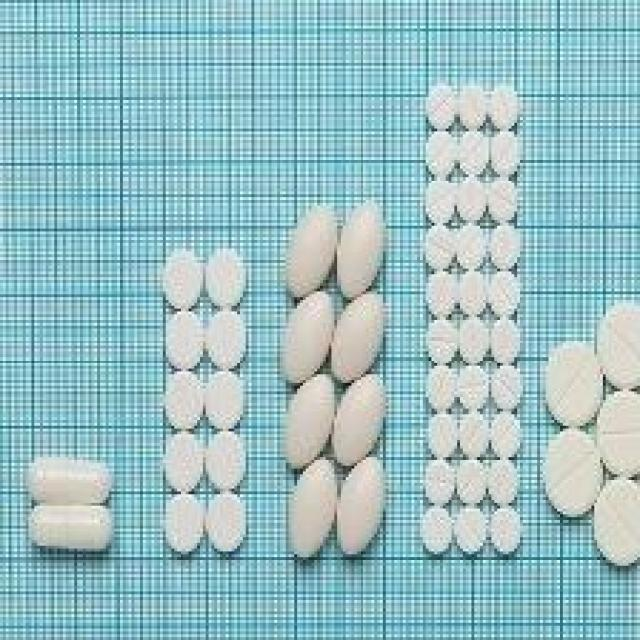Medicine: (420, 84, 521, 558), (278, 192, 391, 562), (148, 242, 260, 577), (539, 271, 640, 577), (27, 428, 114, 586)
